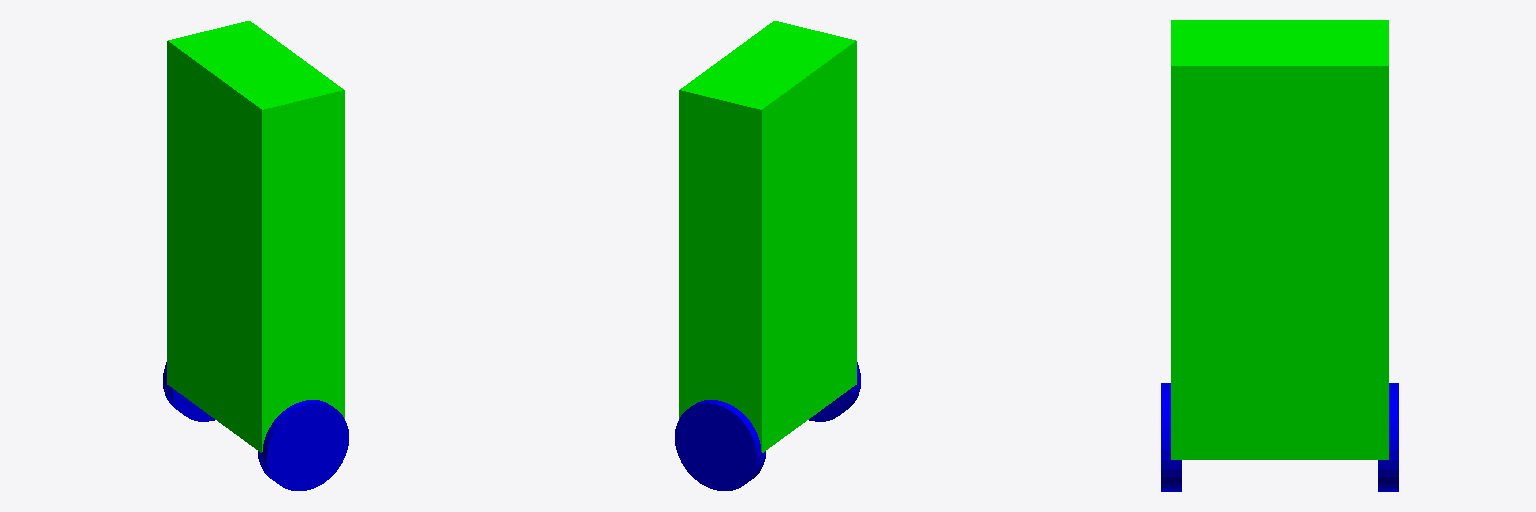
robot.urdf — two_wheel_robot:
<?xml version="1.0" ?>
<robot name="two_wheel_robot">
  <!-- Base Link -->
  <link name="base"/>

  <joint name="base_joint" type="fixed">
    <parent link="base"/>
    <child link="base_link"/>
    <origin xyz="0 0 0.2" rpy="0 0 0"/>
  </joint>

  <link name="base_link">
    <inertial>
      <origin xyz="0 0 0" rpy="0 0 0"/>
      <mass value="1.0"/>
      <inertia ixx="0.01666666666" ixy="0" ixz="0" 
              iyy="0.01416666666" iyz="0" 
              izz="0.00416666666"/>
    </inertial>
    <visual>
      <origin xyz="0 0 0" rpy="0 0 0"/>
      <geometry>
        <box size="0.1 0.2 0.4"/>
      </geometry>
      <material name="green">
        <color rgba="0 1 0 1"/>
      </material>
    </visual>
    <collision>
      <origin xyz="0 0 0" rpy="0 0 0"/>
      <geometry>
        <box size="0.1 0.2 0.4"/>
      </geometry>
    </collision>
  </link>

  <!-- Left Wheel -->
  <link name="left_wheel">
    <inertial>
      <origin xyz="0 0 0" rpy="0 0 0"/>
      <mass value="0.2"/>
      <inertia ixx="0.00013166666" ixy="0" ixz="0" 
              iyy="0.00013166666" iyz="0" izz="0.00025"/>
    </inertial>
    <visual>
      <geometry>
        <cylinder radius="0.05" length="0.02"/>
      </geometry>
      <material name="blue">
        <color rgba="0 0 1 1"/>
      </material>
    </visual>
    <collision>
      <geometry>
        <cylinder radius="0.05" length="0.02"/>
      </geometry>
    </collision>
  </link>

  <!-- Right Wheel -->
  <link name="right_wheel">
    <inertial>
      <origin xyz="0 0 0" rpy="0 0 0"/>
      <mass value="0.2"/>
      <inertia ixx="0.00013166666" ixy="0" ixz="0" 
              iyy="0.00013166666" iyz="0" izz="0.00025"/>
    </inertial>
    <visual>
      <geometry>
        <cylinder radius="0.05" length="0.02"/>
      </geometry>
      <material name="blue">
        <color rgba="0 0 1 1"/>
      </material>
    </visual>
    <collision>
      <geometry>
        <cylinder radius="0.05" length="0.02"/>
      </geometry>
    </collision>
  </link>

  <!-- Left Joint -->
  <joint name="left_joint" type="continuous">
    <parent link="base_link"/>
    <child link="left_wheel"/>
    <origin xyz="0 0.1 -0.2" rpy="1.57079632679 0 0"/>
    <axis xyz="0 0 1"/>
  </joint>

  <!-- Right Joint -->
  <joint name="right_joint" type="continuous">
    <parent link="base_link"/>
    <child link="right_wheel"/>
    <origin xyz="0 -0.1 -0.2" rpy="1.57079632679 0 0"/>
    <axis xyz="0 0 1"/>
  </joint>
</robot>

--- Render facts (derived) ---
The picture shows the robot from 3 angles, left to right: view 1: azimuth 30°, elevation 25°; view 2: azimuth 150°, elevation 25°; view 3: azimuth 270°, elevation 25°; orthographic projection.
Robot: two_wheel_robot — 4 links, 3 joints (2 continuous, 1 fixed); root link base; default pose: every joint at zero.
Visible links, largest first — view 1: base_link, right_wheel, left_wheel; view 2: base_link, left_wheel, right_wheel; view 3: base_link, left_wheel, right_wheel.
Link boxes in pixels (x1,y1,x2,y2): base_link: (167, 21, 344, 452); right_wheel: (258, 400, 348, 490); left_wheel: (163, 362, 214, 421); base_link: (679, 21, 856, 452); left_wheel: (675, 400, 765, 490); right_wheel: (809, 362, 860, 421); base_link: (1171, 20, 1388, 459); left_wheel: (1378, 383, 1398, 491); right_wheel: (1161, 383, 1181, 491).
Bounding box of the posed robot: 0.1 × 0.22 × 0.45 m (x, y, z).
Geometry: primitives only (box / cylinder / sphere), no mesh files.